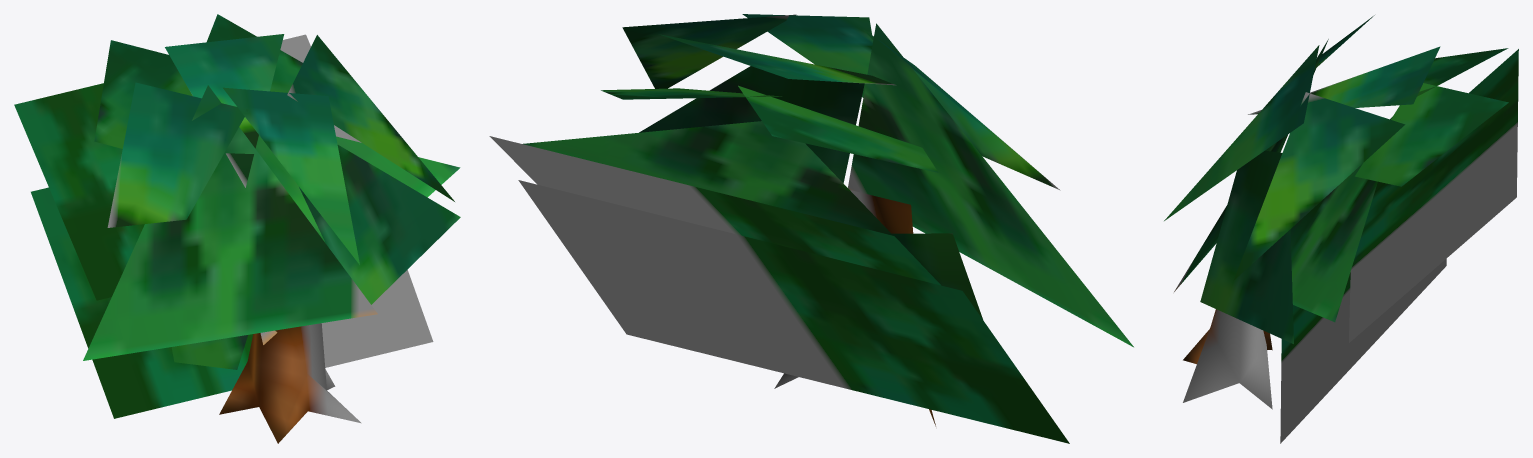
Rendered from fg_bushA_1.dae.
3 renders of one model, left to right at view 1: azimuth 30°, elevation 25°; view 2: azimuth 150°, elevation 25°; view 3: azimuth 270°, elevation 25°, orthographic. The views are drawn at different scales.
Visible parts, largest first — view 1: fg_bushA_1; view 2: fg_bushA_1; view 3: fg_bushA_1.
Part boxes in pixels (box(x1,y1,x2,y2)): fg_bushA_1: box(14, 14, 460, 443); fg_bushA_1: box(489, 14, 1133, 443); fg_bushA_1: box(1164, 15, 1518, 443).
Bounding box in the file's own units: 35.43 × 25.39 × 25.39.
Materials: 1 (1 with a texture image).
